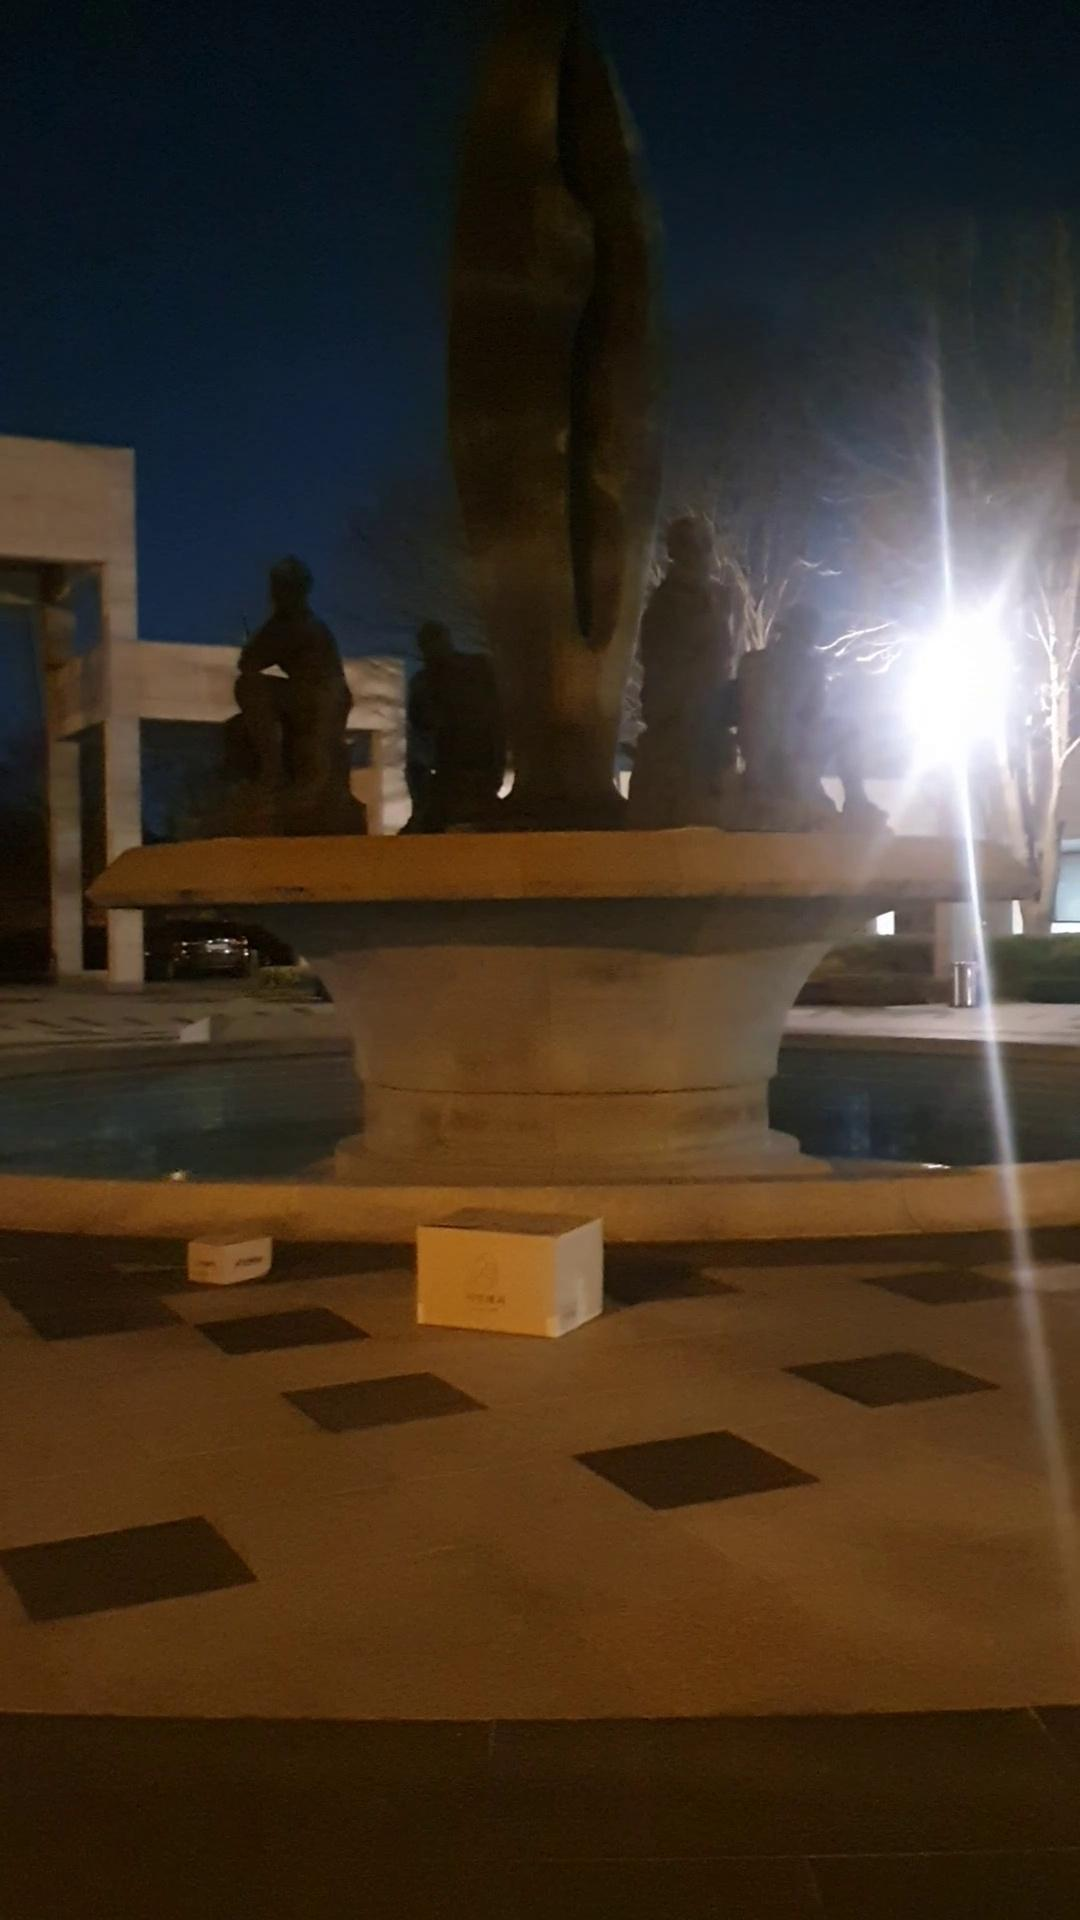Box: (398, 1197, 605, 1342), (186, 1225, 287, 1295)
